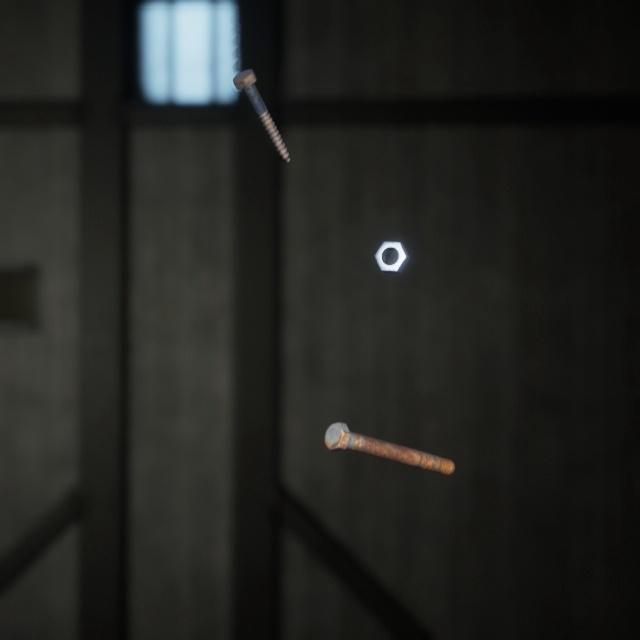bolt: (320, 397, 459, 460), (228, 51, 294, 154)
nut: (369, 221, 415, 262)
